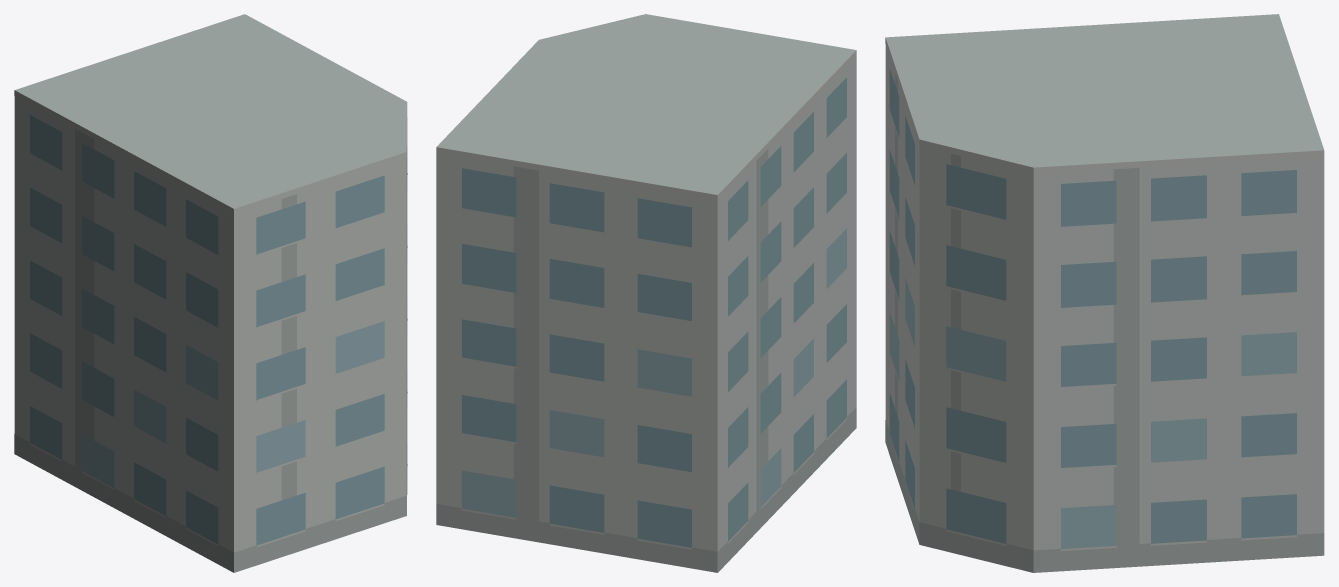
The model's file is residential-f2f9e77d-4430-47e2-8089-dd4b476fafdc.glb.
3 renders of one model, left to right at view 1: azimuth 30°, elevation 25°; view 2: azimuth 150°, elevation 25°; view 3: azimuth 270°, elevation 25°, orthographic. The views are drawn at different scales.
Parts seen in each view (by area): view 1: residential-f2f9e77d-4430-47e2-8089-dd4b476fafdc.tmp; view 2: residential-f2f9e77d-4430-47e2-8089-dd4b476fafdc.tmp; view 3: residential-f2f9e77d-4430-47e2-8089-dd4b476fafdc.tmp.
Boxes of the visible parts, x1,y1,x2,y2 form: residential-f2f9e77d-4430-47e2-8089-dd4b476fafdc.tmp: (14,14,407,572); residential-f2f9e77d-4430-47e2-8089-dd4b476fafdc.tmp: (436,14,856,572); residential-f2f9e77d-4430-47e2-8089-dd4b476fafdc.tmp: (885,14,1324,572).
Bounding box in the file's own units: 12.4 × 15.25 × 14.97.
